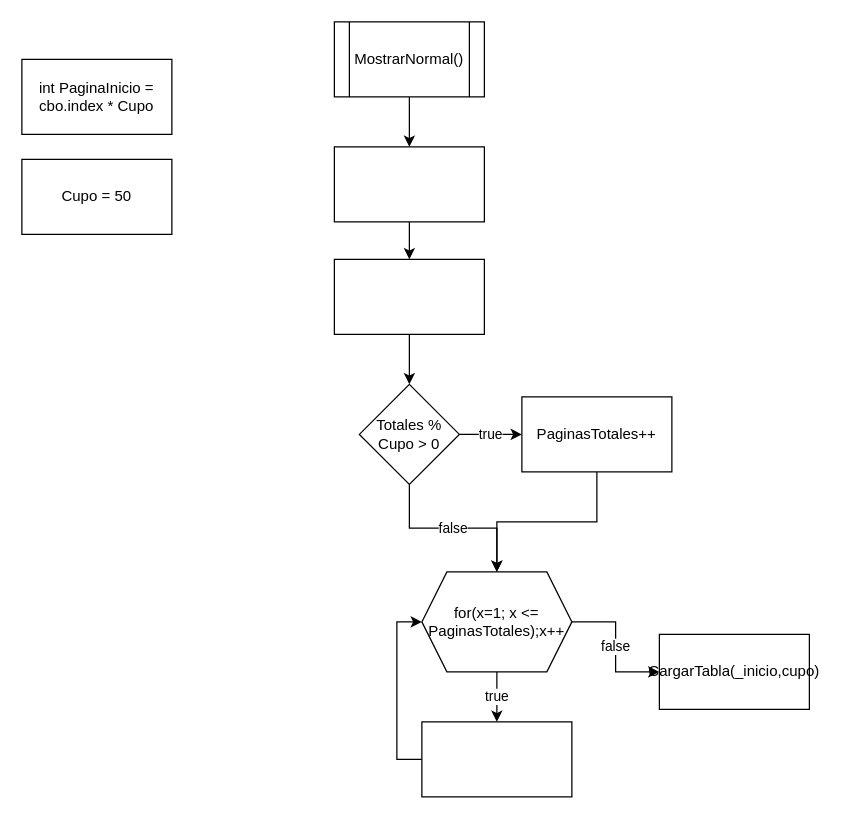
This 841x819 diagram has some shape labels left out. The shapes that lost their labels are listed below. From the top down, each one's centre as x and y in pixels, then its label:
At point 408,184: "int totales = dtset[0][0]".
At point 408,296: "int PaginasTotales = Totales / Cupo".
At point 496,759: "cbo.Add(x)".
